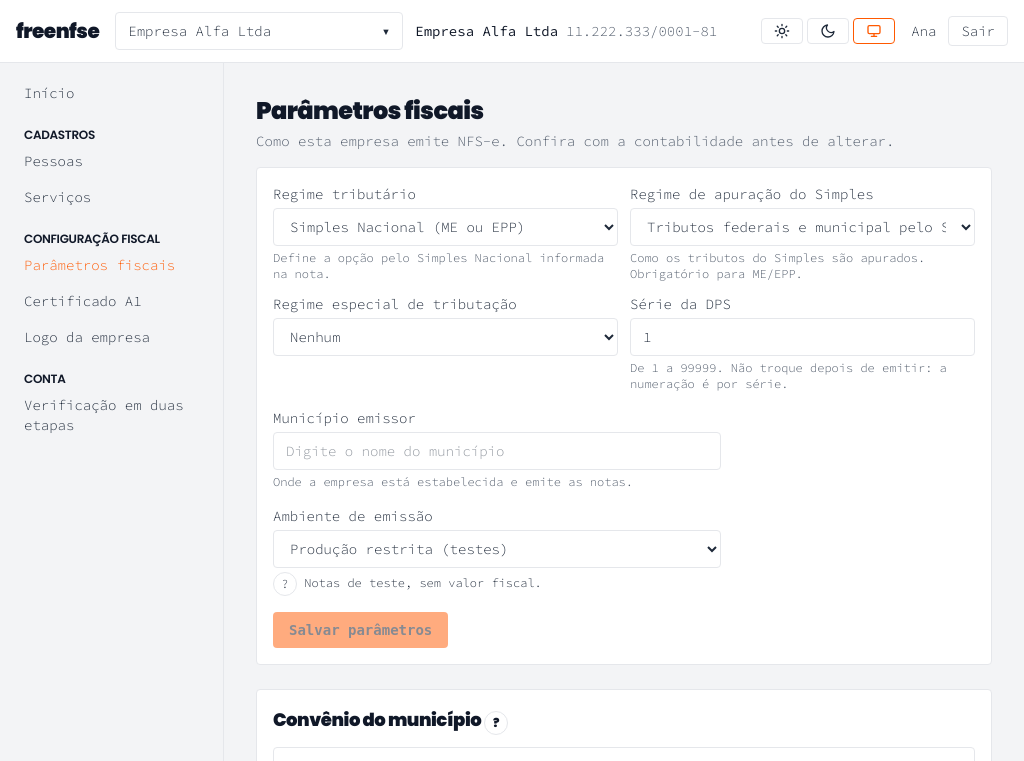
Test: Parâmetros fiscais › cancelar a confirmação de produção não altera nada
This screenshot has width=1024, height=761.
Expected: the dropdown labelled "Regime tributário" is shown, [273,208,618,246]
Select "Produção (notas com valor fiscal)" in the dropdown labelled "Ambiente de emissão": (497, 549) [273,530,721,568]
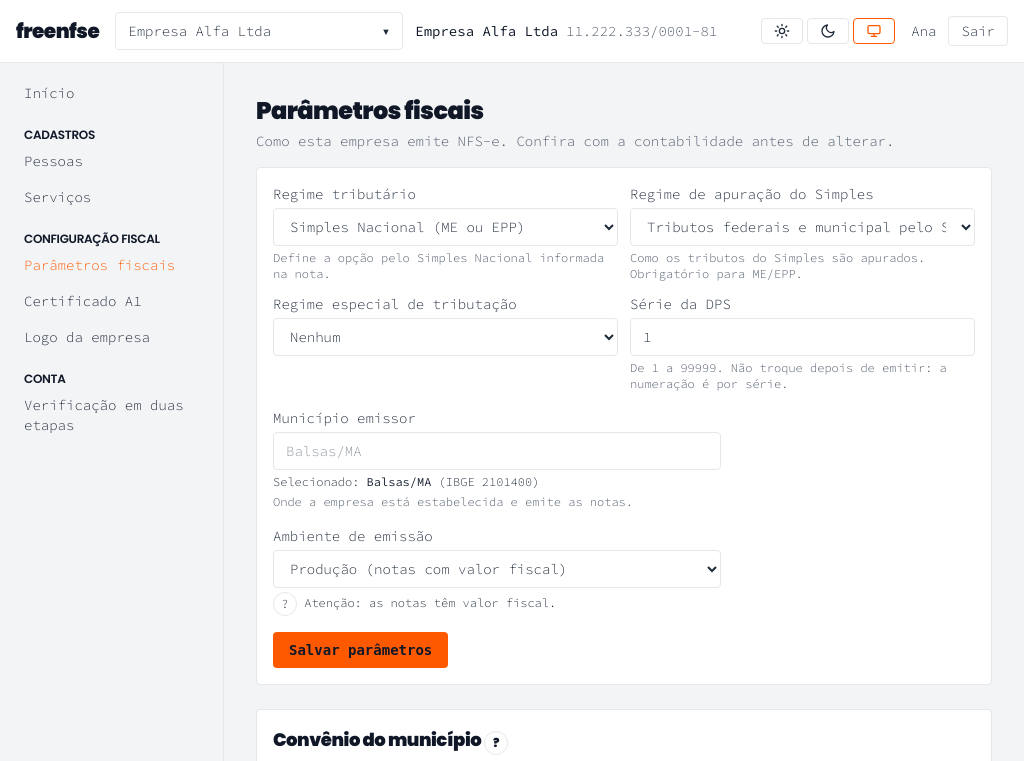
Click the button "Salvar parâmetros": (361, 650) [273,632,448,668]
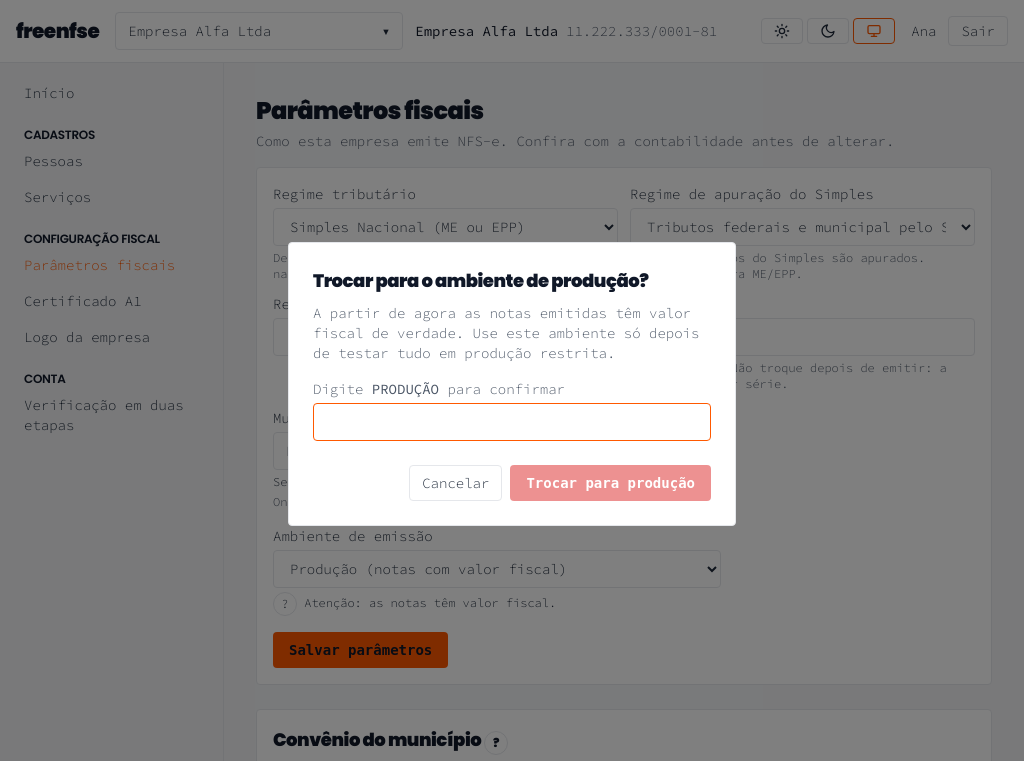
Click the button "Cancelar": (456, 483) [409,465,502,501]
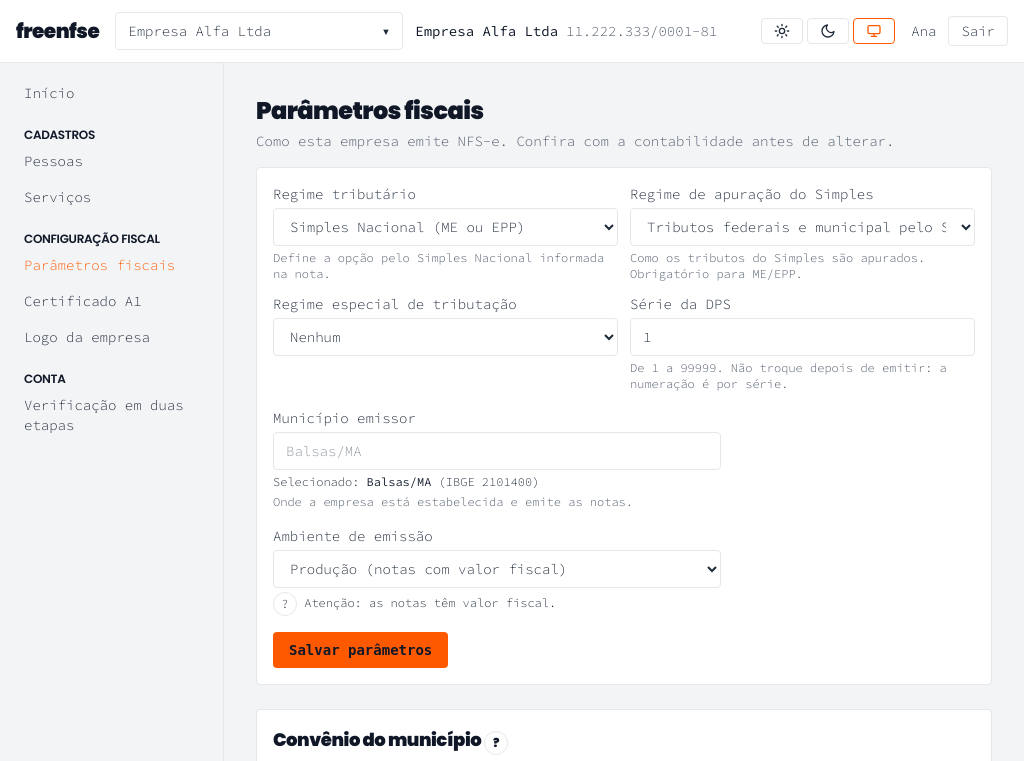
Result: the dialog is gone
